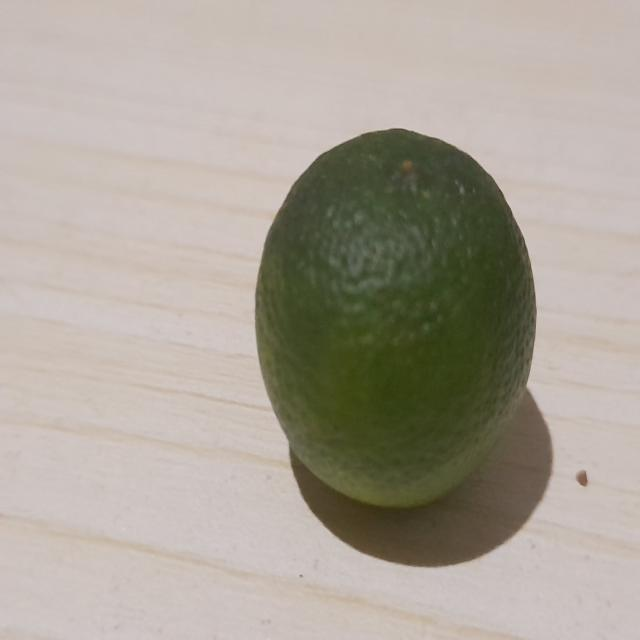heathy: (251, 123, 542, 527)
